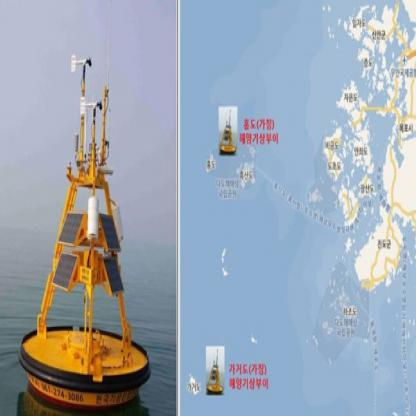buoy: (17, 48, 154, 415)
